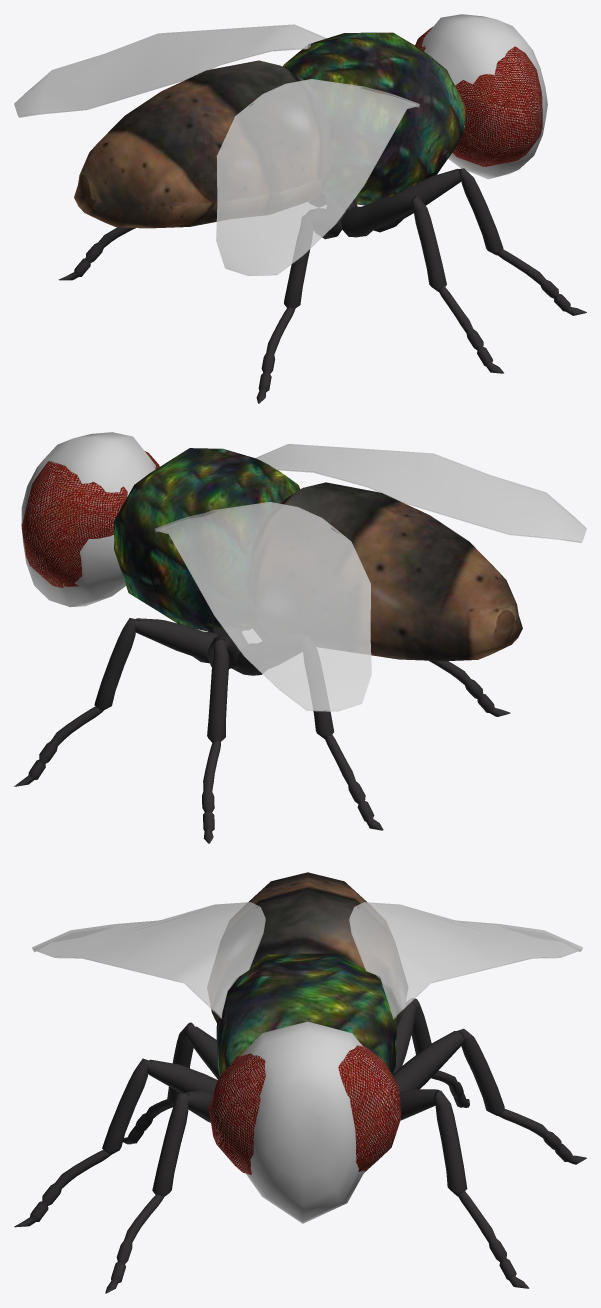
The model's file is housefly.fbx.
3 renders of one model, top to bottom at view 1: azimuth 30°, elevation 25°; view 2: azimuth 150°, elevation 25°; view 3: azimuth 270°, elevation 25°, orthographic. The views are drawn at different scales.
Visible parts, largest first — view 1: pSphere1, pPlane1, pCube1, pPlane3, pSphere5, pSphere3, pCylinder8, pCylinder6, pCylinder13, pCylinder16, pCylinder9, pCylinder14 (+4 smaller); view 2: pSphere1, pPlane3, pCube1, pPlane1, pSphere4, pSphere3, pCylinder4, pCylinder12, pCylinder10, pCylinder2, pCylinder17, pCylinder18 (+3 smaller); view 3: pSphere3, pSphere1, pCube1, pPlane3, pPlane1, pSphere4, pSphere5, pCylinder5, pCylinder9, pCylinder17, pCylinder6, pCylinder10 (+13 smaller).
Part boxes in pixels (x1,y1,x2,y2): pSphere1: (74, 60, 333, 228); pPlane1: (216, 79, 419, 275); pCube1: (282, 32, 465, 205); pPlane3: (14, 24, 326, 117); pSphere5: (452, 46, 542, 166); pSphere3: (422, 14, 547, 179); pCylinder8: (326, 192, 416, 237); pCylinder6: (411, 196, 446, 291); pCylinder13: (337, 168, 462, 232); pCylinder16: (284, 214, 313, 308); pCylinder9: (458, 168, 503, 255); pCylinder14: (439, 287, 503, 373); pSphere1: (247, 482, 522, 661); pPlane3: (155, 502, 371, 711); pCube1: (113, 448, 300, 631); pPlane1: (255, 444, 586, 542); pSphere4: (21, 461, 127, 587); pSphere3: (21, 432, 155, 607); pCylinder4: (207, 627, 304, 675); pCylinder12: (135, 618, 241, 663); pCylinder10: (207, 639, 228, 742); pCylinder2: (301, 636, 334, 738); pCylinder17: (94, 618, 139, 710); pCylinder18: (14, 706, 103, 786); pSphere3: (238, 1021, 364, 1223); pSphere1: (207, 872, 407, 1026); pCube1: (216, 953, 396, 1076); pPlane3: (349, 902, 582, 1019); pPlane1: (32, 902, 265, 1018); pSphere4: (338, 1042, 401, 1172); pSphere5: (208, 1053, 265, 1174); pCylinder5: (393, 1031, 464, 1091); pCylinder9: (152, 1093, 189, 1196); pCylinder17: (434, 1090, 467, 1196); pCylinder6: (102, 1058, 152, 1154); pCylinder10: (457, 1028, 504, 1115).
Bounding box in the file's own units: 3.71 × 1.98 × 3.72.
